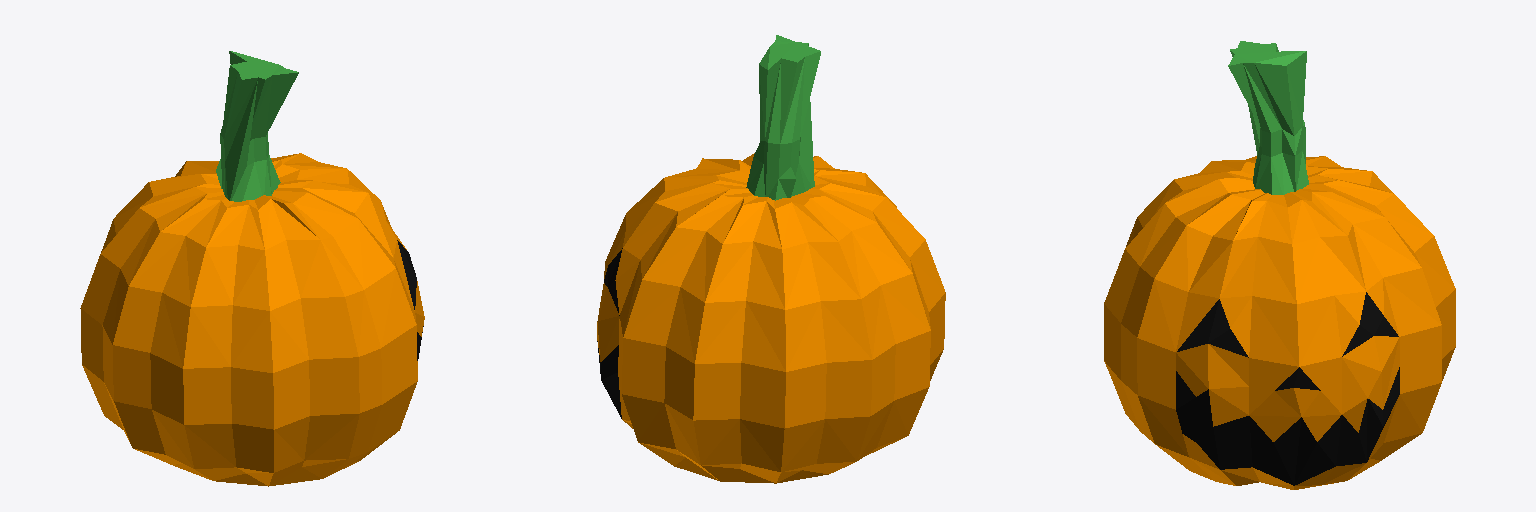
Rendered from pumpkinhead.obj.
3 renders of one model, left to right at view 1: azimuth 30°, elevation 25°; view 2: azimuth 150°, elevation 25°; view 3: azimuth 270°, elevation 25°, orthographic.
Visible parts, largest first — view 1: group[number redacted]; view 2: group[number redacted]; view 3: group[number redacted].
Boxes of the visible parts, x1=… form: group[number redacted]: x1=80, y1=51, x2=424, y2=486; group[number redacted]: x1=597, y1=35, x2=945, y2=483; group[number redacted]: x1=1104, y1=41, x2=1455, y2=489.
Bounding box in the file's own units: 0.48 × 0.5957 × 0.4774.